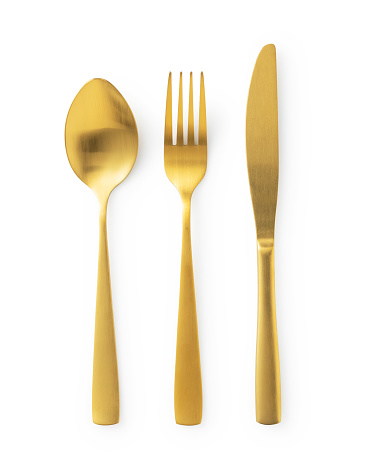knife: (242, 38, 287, 428)
